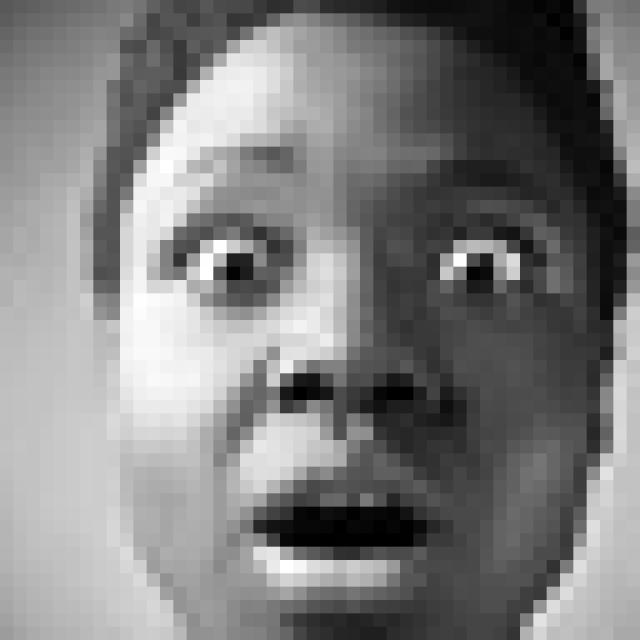surprise: (143, 137, 567, 625)
